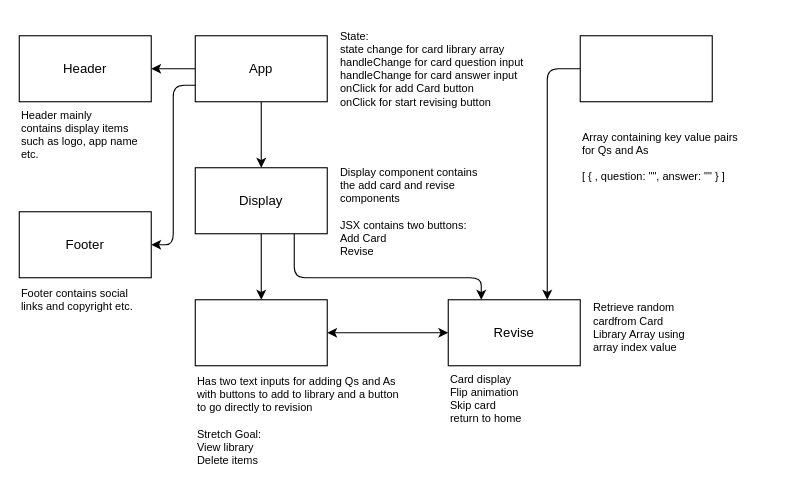
Some shapes in this 787 by 494 pixel diagram are drawn without their labels. The box of each missing label's shape, as (x1, y1, x2, y2) in pixels:
Add Card: (194, 299, 327, 366)
Card Library Array: (579, 35, 712, 102)
